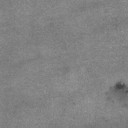iron sheet ash: (116, 80, 125, 90)
